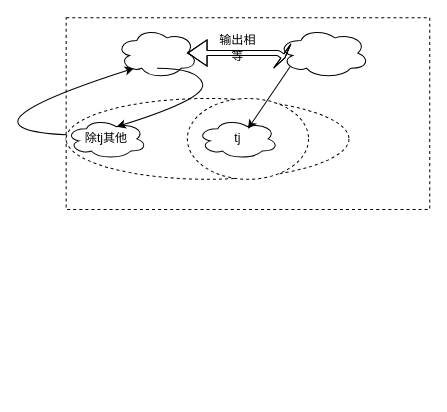
The diagram is 447 pixels wide and 412 high, and some of its shapes have lost their labels. The box of each missing label's shape, as (x1, y1, x2, y2) in pixels:
palantir bidser: (277, 27, 369, 78)
ta1 bidser: (116, 27, 197, 78)
